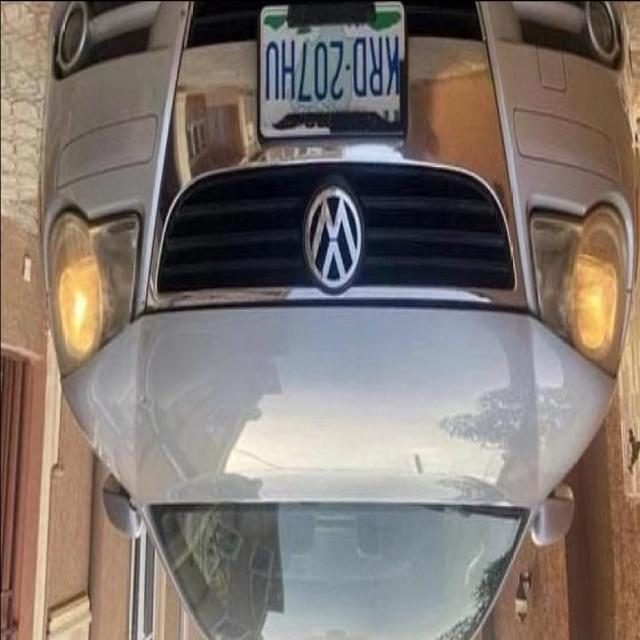Nigerian License Plate - vdataset benjamin-daria: (252, 0, 411, 148)
